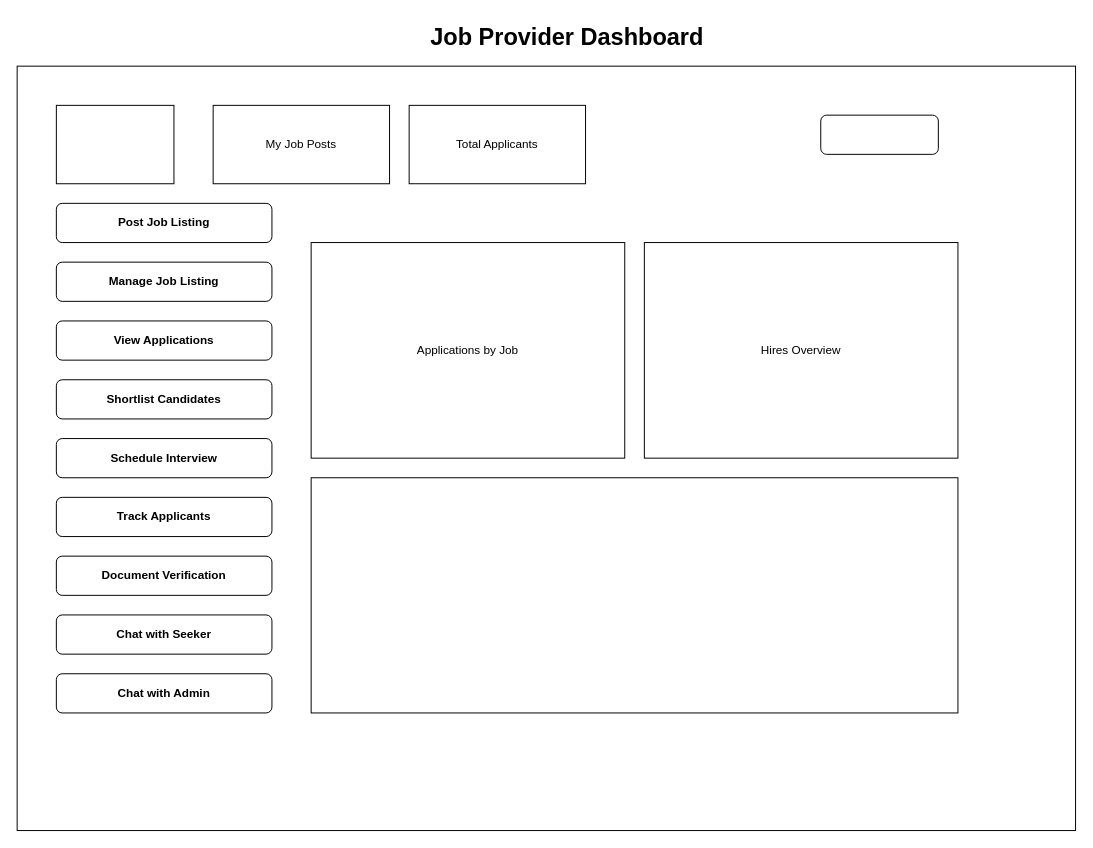
Image size: 1093x848. Some labels were removed from this diagram. The shapes that lost their labels are listed below. From the top down, each one's box as (x1, y1, x2, y2) in pixels, then its label:
(55, 104, 174, 184): LOGO
(820, 114, 938, 154): LOGOUT
(310, 477, 958, 713): Reports
